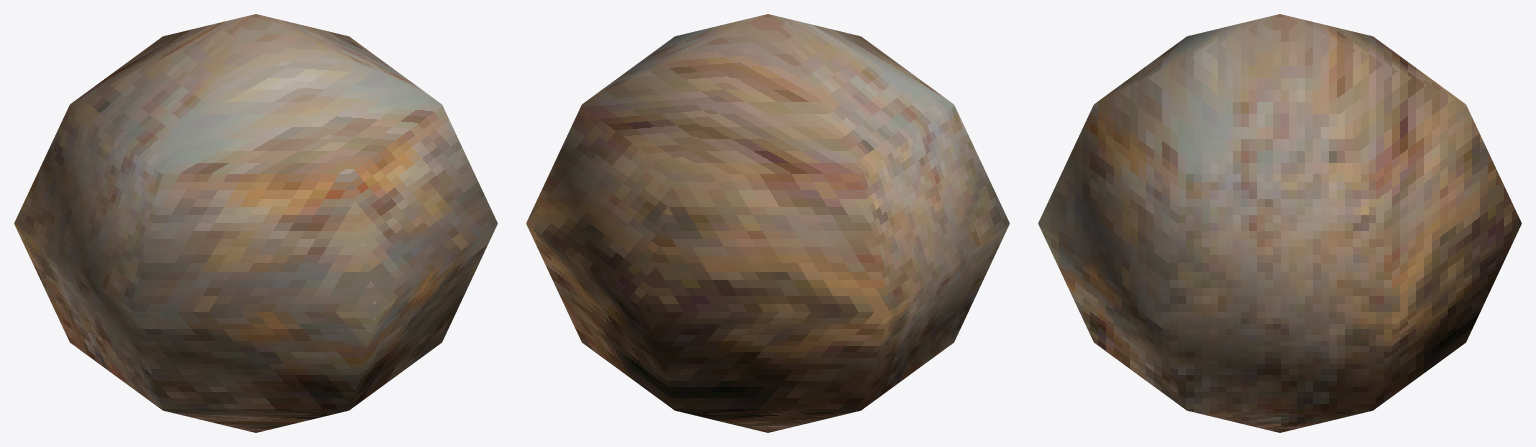
File: shell.FBX
3 views of the same model, side by side, from view 1: azimuth 30°, elevation 25°; view 2: azimuth 150°, elevation 25°; view 3: azimuth 270°, elevation 25° (orthographic).
Parts seen in each view (by area): view 1: shell; view 2: shell; view 3: shell.
Part boxes in pixels (x1,y1,x2,y2): shell: (14,14,497,432); shell: (526,14,1009,432); shell: (1038,14,1521,432).
Size of the model in its own units: 17.55 by 19.36 by 20.26.
1 material, 1 textured.
